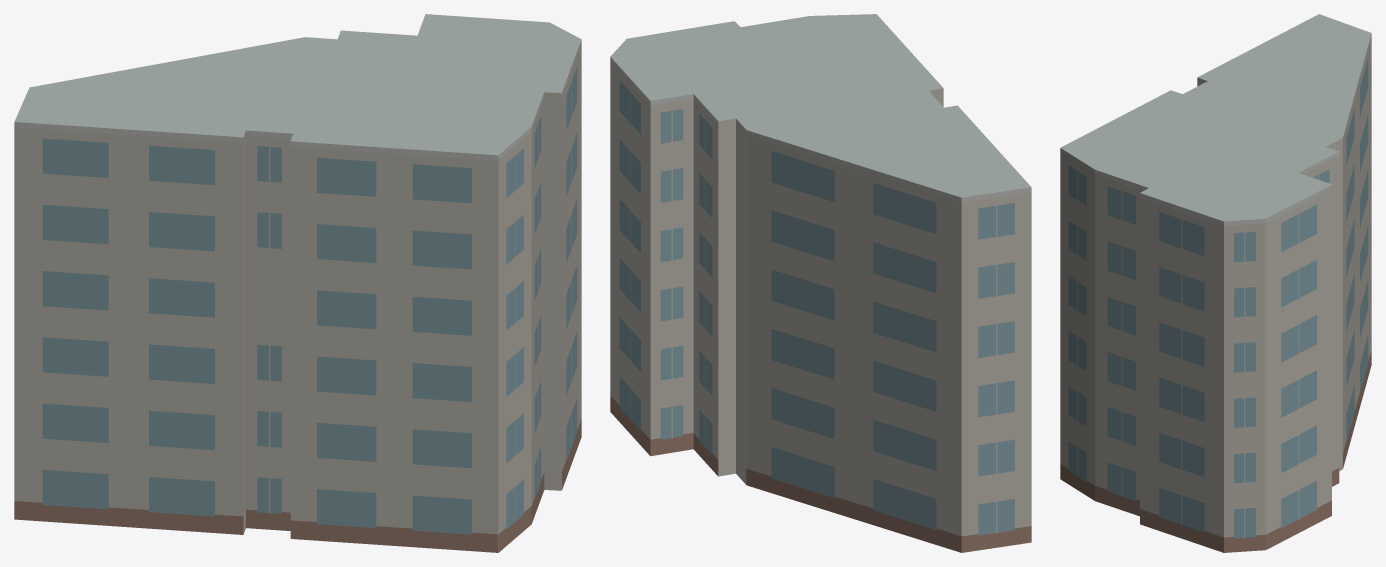
Rendered from survey-upis-32744576.glb.
3 views of the same model, side by side, from view 1: azimuth 30°, elevation 25°; view 2: azimuth 150°, elevation 25°; view 3: azimuth 270°, elevation 25° (orthographic). The views are drawn at different scales.
Visible parts, largest first — view 1: survey-upis-32744576.tmp; view 2: survey-upis-32744576.tmp; view 3: survey-upis-32744576.tmp.
Boxes of the visible parts, box(x1,y1,x2,y2) form: survey-upis-32744576.tmp: box(14, 14, 581, 552); survey-upis-32744576.tmp: box(610, 14, 1031, 552); survey-upis-32744576.tmp: box(1060, 14, 1371, 552).
Bounding box in the file's own units: 24.58 × 18.3 × 15.6.
